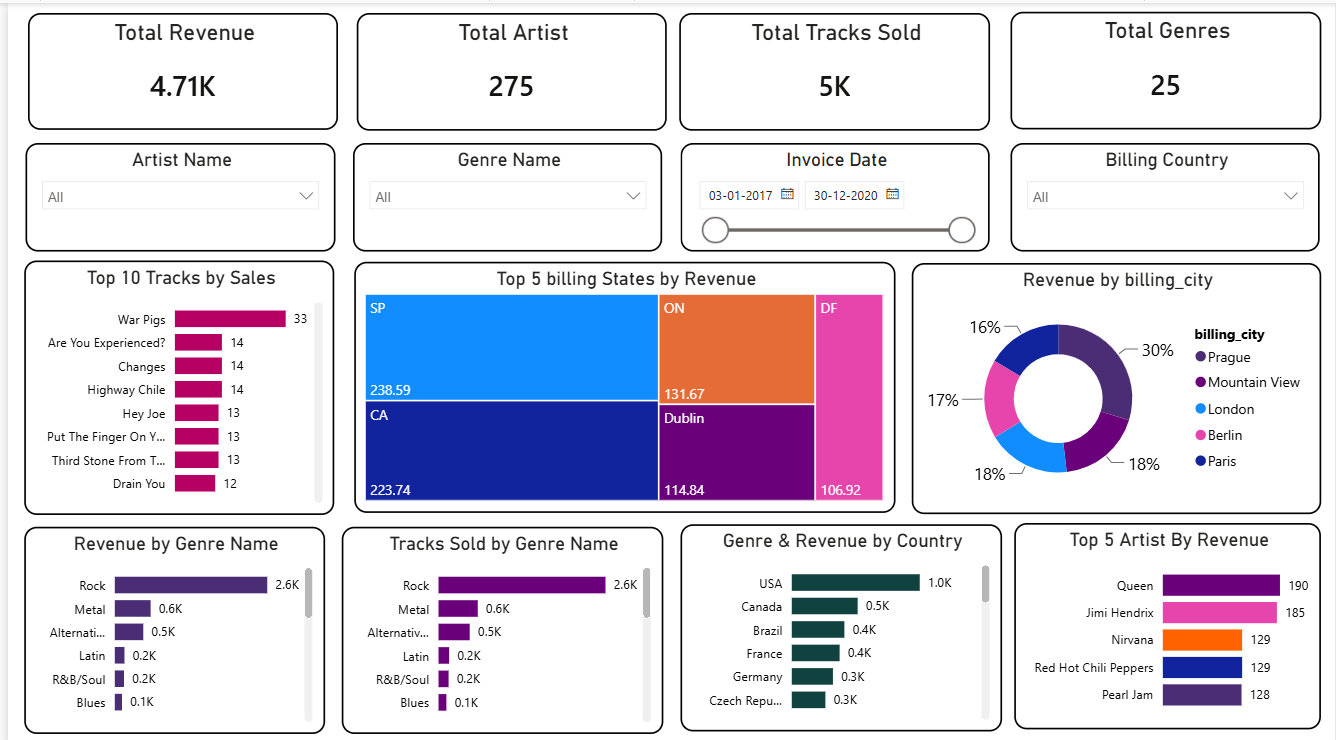

What the dashboard file says about the page in this screenshot:
{"tool":"powerbi","page":{"name":"3. Product, Artist & Genre Performance","canvas":[1280,720],"ordinal":2},"visuals":[{"type":"cardVisual","title":"Total Revenue","fields":{"Data":["invoice.Total Revenue"]},"box":[19.3,9.2,299.6,112.5],"z":0},{"type":"cardVisual","title":"Total Artist","fields":{"Data":["artist.Total Artists"]},"box":[336,9.2,299.6,113.7],"z":1000},{"type":"cardVisual","title":"Total Tracks Sold","fields":{"Data":["invoice_line.Total Tracks Sold"]},"box":[648.4,10.2,300.1,114],"z":2000},{"type":"cardVisual","title":"Total Genres","fields":{"Data":["genre.Total Genres"]},"box":[967.2,8.8,300.1,114],"z":3000},{"type":"slicer","title":"Genre Name","fields":{"Values":["genre.name"]},"box":[333.2,135.2,298.7,105],"z":4000},{"type":"slicer","title":"Artist Name","fields":{"Values":["artist.name"]},"box":[17.3,135.2,299,105],"z":5000},{"type":"slicer","title":"Invoice Date","fields":{"Values":["invoice.invoice_date"]},"box":[648.8,135.5,298.7,105],"z":6000},{"type":"slicer","title":"Billing Country","fields":{"Values":["invoice.billing_country"]},"box":[968.1,135.2,298.7,105],"z":7000},{"type":"clusteredBarChart","title":"Revenue by Genre Name","fields":{"Category":["genre.name"],"Y":["invoice.Total Revenue"]},"box":[15.5,505.8,290,200],"z":8000},{"type":"clusteredBarChart","title":"Tracks Sold by Genre Name","fields":{"Category":["genre.name"],"Y":["invoice_line.Total Tracks Sold"]},"box":[322.1,505.5,310.1,200.3],"z":9000},{"type":"clusteredBarChart","title":"Top 5 Artist By Revenue","fields":{"Category":["artist.name"],"Y":["invoice.Total Revenue"]},"box":[971.2,501.9,296,199.1],"z":10000},{"type":"clusteredBarChart","title":"Top 10 Tracks by Sales","fields":{"Category":["track.name"],"Y":["invoice_line.Total Tracks Sold"]},"box":[16.3,248.8,299.6,245.8],"z":11000},{"type":"clusteredBarChart","title":"Genre &  Revenue by Country","fields":{"Category":["invoice.billing_country","genre.name"],"Y":["invoice.Total Revenue"]},"box":[649.1,503.1,310.1,200.3],"z":12000},{"type":"donutChart","title":"Revenue by billing_city","fields":{"Category":["invoice.billing_city"],"Y":["invoice.Total Revenue"]},"box":[872.3,251.2,395,242.1],"z":13000},{"type":"treemap","title":"Top 5 billing States by Revenue","fields":{"Group":["invoice.billing_state"],"Values":["invoice.Total Revenue"]},"box":[334.2,250,522.1,242.1],"z":14000}]}

Visuals, with their boxes in screenshot pixels (x1, y1, x2, y2), scaled from the page's 1280x720 canvas onto the 1336x740 screenshot:
"Total Revenue" cardVisual: left=20, top=9, right=333, bottom=125
"Total Artist" cardVisual: left=351, top=9, right=663, bottom=126
"Total Tracks Sold" cardVisual: left=677, top=10, right=990, bottom=128
"Total Genres" cardVisual: left=1010, top=9, right=1323, bottom=126
"Genre Name" slicer: left=348, top=139, right=660, bottom=247
"Artist Name" slicer: left=18, top=139, right=330, bottom=247
"Invoice Date" slicer: left=677, top=139, right=989, bottom=247
"Billing Country" slicer: left=1010, top=139, right=1322, bottom=247
"Revenue by Genre Name" clusteredBarChart: left=16, top=520, right=319, bottom=725
"Tracks Sold by Genre Name" clusteredBarChart: left=336, top=520, right=660, bottom=725
"Top 5 Artist By Revenue" clusteredBarChart: left=1014, top=516, right=1323, bottom=720
"Top 10 Tracks by Sales" clusteredBarChart: left=17, top=256, right=330, bottom=508
"Genre &  Revenue by Country" clusteredBarChart: left=677, top=517, right=1001, bottom=723
"Revenue by billing_city" donutChart: left=910, top=258, right=1323, bottom=507
"Top 5 billing States by Revenue" treemap: left=349, top=257, right=894, bottom=506
